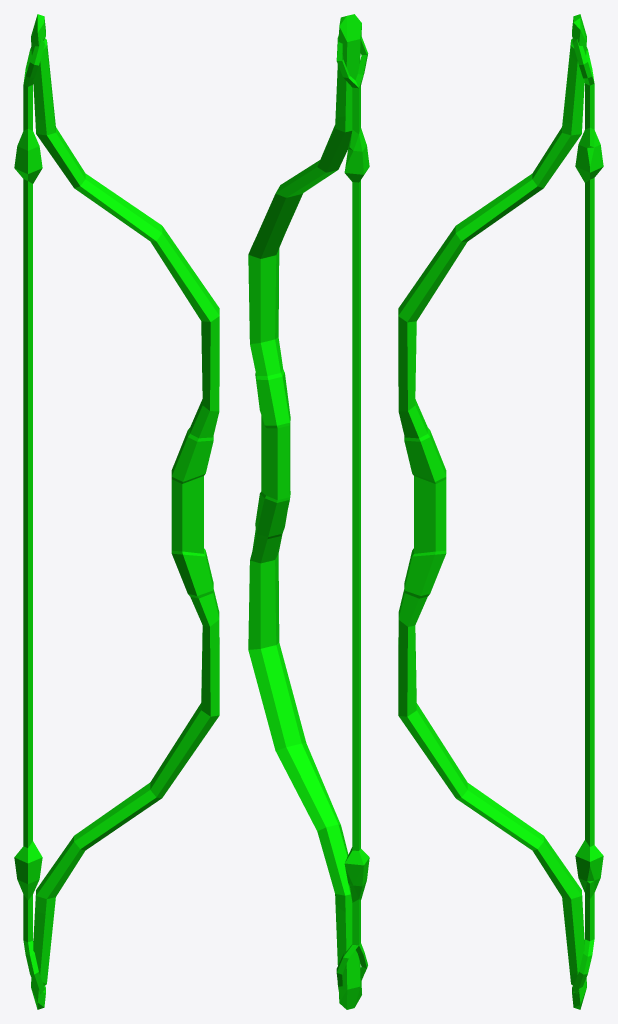
Rendered from SM_Bow_Horse_Fantasy.fbx.
3 views of the same model, side by side, from view 1: azimuth 90°, elevation 25°; view 2: azimuth 210°, elevation 25°; view 3: azimuth 270°, elevation 25° (orthographic).
Parts seen in each view (by area): view 1: bow-horse-fantasy; view 2: bow-horse-fantasy; view 3: bow-horse-fantasy.
Boxes of the visible parts, x1,y1,x2,y2 form: bow-horse-fantasy: (14, 14, 219, 1009); bow-horse-fantasy: (248, 14, 369, 1009); bow-horse-fantasy: (398, 14, 603, 1009).
Size of the model in its own units: 0.0472 by 1.42 by 0.2661.
